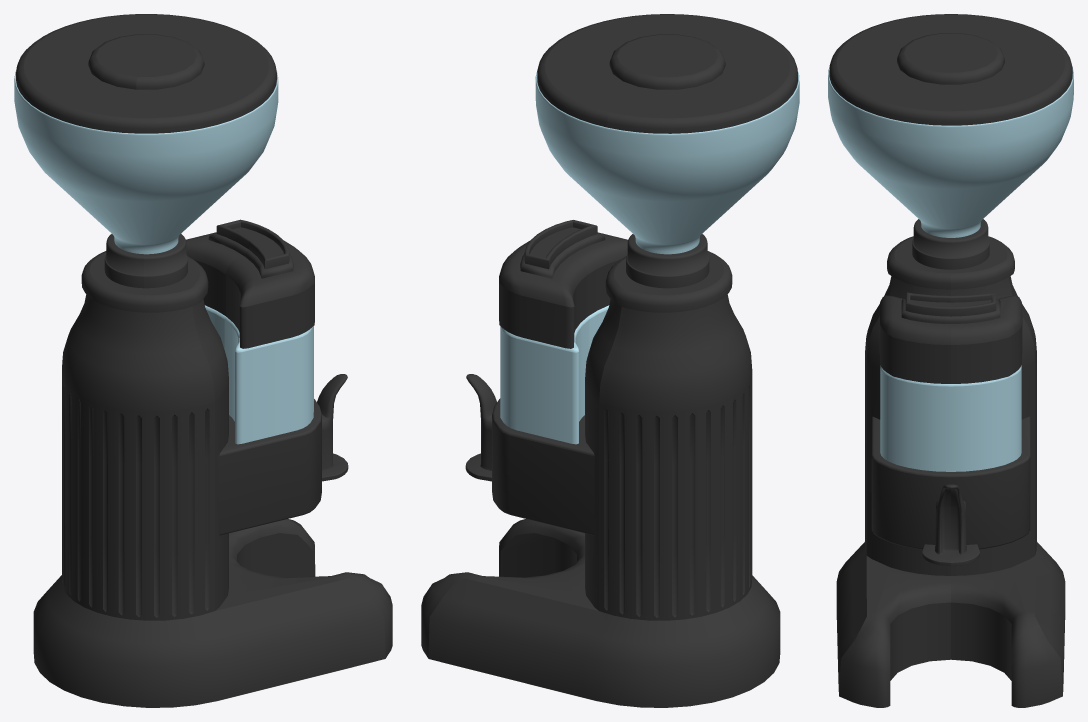
Rendered from VP_Coffee_Grinder.FBX.
3 renders of one model, left to right at view 1: azimuth 30°, elevation 25°; view 2: azimuth 150°, elevation 25°; view 3: azimuth 270°, elevation 25°, orthographic. The views are drawn at different scales.
Parts seen in each view (by area): view 1: VP_Coffee_Grinder; view 2: VP_Coffee_Grinder; view 3: VP_Coffee_Grinder.
Boxes of the visible parts, <box> form: VP_Coffee_Grinder: <box>14,14,392,707</box>; VP_Coffee_Grinder: <box>421,14,799,707</box>; VP_Coffee_Grinder: <box>828,14,1073,707</box>.
Size of what is drawn, in the model's own units: 23.19 by 16.62 by 41.9.
